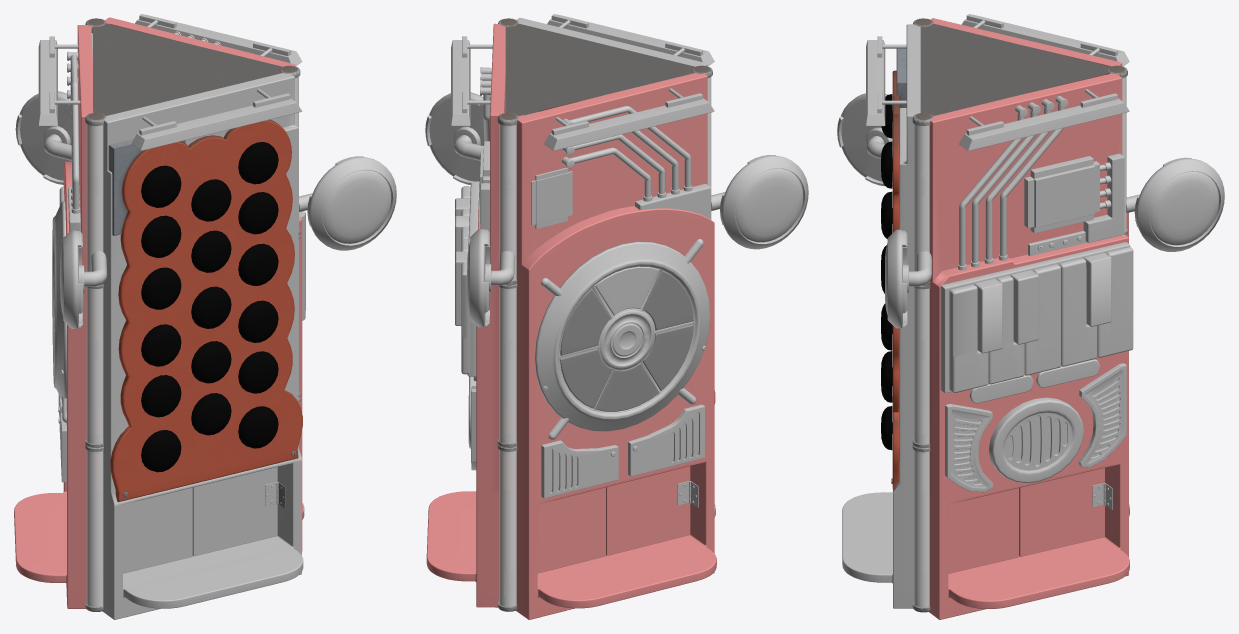
The model's file is SM_PuzzlePillar_Mix_Phase1.fbx.
3 views of the same model, side by side, from view 1: azimuth 30°, elevation 25°; view 2: azimuth 150°, elevation 25°; view 3: azimuth 270°, elevation 25° (orthographic).
Parts seen in each view (by area): view 1: SM_PuzzlePillar_RedLightBase, SM_PuzzlePillar_Base, SM_PuzzlePillar_YellowReflexBase, SM_PuzzlePillarLights, SM_PuzzlePillar_Handpanel_01.001, SM_PuzzlePillarPieces_Door_R.001, SM_PuzzlePillarPieces_Door_L.001, SM_PuzzlePillar_Handpanel_01.002, SM_PuzzlePillar_Handpanel_01, SM_PuzzlePillar_BluePianoBase, SM_PuzzlePillarPieces_light.013, SM_PuzzlePillarPieces_light.007 (+15 smaller); view 2: SM_PuzzlePillar_YellowReflexBase, SM_PuzzlePillar_Base, SM_PuzzlePillar_BluePianoBase, SM_PuzzlePillarLights, SM_PuzzlePillar_Handpanel_01, SM_PuzzlePillarPieces_Door_R, SM_PuzzlePillarPieces_Door_L.002, SM_PuzzlePillar_Handpanel_01.001, SM_PuzzlePillar_Handpanel_01.002, SM_PuzzlePillarPieces_button.003, SM_PuzzlePillarPieces_button.006, SM_PuzzlePillarPieces_button.007 (+6 smaller); view 3: SM_PuzzlePillar_BluePianoBase, SM_PuzzlePillar_Base, SM_PuzzlePillar_RedLightBase, SM_PuzzlePillarLights, SM_PuzzlePillar_Handpanel_01.002, SM_PuzzlePillarPieces_Door_R.002, SM_PuzzlePillarPieces_Door_L, SM_PuzzlePillarPieces_key1, SM_PuzzlePillarPieces_key4, SM_PuzzlePillarPieces_key5, SM_PuzzlePillarPieces_key3, SM_PuzzlePillar_Handpanel_01 (+6 smaller).
Boxes of the visible parts, left/top/right/bottom form: SM_PuzzlePillar_RedLightBase: left=102, top=73, right=303, bottom=619; SM_PuzzlePillar_Base: left=85, top=18, right=300, bottom=611; SM_PuzzlePillar_YellowReflexBase: left=14, top=25, right=93, bottom=608; SM_PuzzlePillarLights: left=38, top=14, right=302, bottom=150; SM_PuzzlePillar_Handpanel_01.001: left=299, top=156, right=396, bottom=250; SM_PuzzlePillarPieces_Door_R.001: left=192, top=467, right=278, bottom=556; SM_PuzzlePillarPieces_Door_L.001: left=123, top=487, right=192, bottom=573; SM_PuzzlePillar_Handpanel_01.002: left=15, top=91, right=71, bottom=184; SM_PuzzlePillar_Handpanel_01: left=60, top=230, right=107, bottom=328; SM_PuzzlePillar_BluePianoBase: left=105, top=17, right=305, bottom=551; SM_PuzzlePillarPieces_light.013: left=191, top=179, right=231, bottom=221; SM_PuzzlePillarPieces_light.007: left=238, top=406, right=278, bottom=448; SM_PuzzlePillar_YellowReflexBase: left=516, top=73, right=716, bottom=619; SM_PuzzlePillar_Base: left=497, top=18, right=712, bottom=611; SM_PuzzlePillar_BluePianoBase: left=426, top=23, right=505, bottom=607; SM_PuzzlePillarLights: left=451, top=14, right=714, bottom=150; SM_PuzzlePillar_Handpanel_01: left=711, top=155, right=808, bottom=249; SM_PuzzlePillarPieces_Door_R: left=606, top=466, right=690, bottom=555; SM_PuzzlePillarPieces_Door_L.002: left=537, top=487, right=605, bottom=573; SM_PuzzlePillar_Handpanel_01.001: left=425, top=92, right=484, bottom=184; SM_PuzzlePillar_Handpanel_01.002: left=467, top=229, right=515, bottom=327; SM_PuzzlePillarPieces_button.003: left=642, top=324, right=693, bottom=390; SM_PuzzlePillarPieces_button.006: left=560, top=288, right=610, bottom=355; SM_PuzzlePillarPieces_button.007: left=560, top=348, right=611, bottom=408; SM_PuzzlePillar_BluePianoBase: left=929, top=73, right=1130, bottom=619; SM_PuzzlePillar_Base: left=912, top=18, right=1127, bottom=612; SM_PuzzlePillar_RedLightBase: left=842, top=24, right=920, bottom=608; SM_PuzzlePillarLights: left=866, top=14, right=1129, bottom=150; SM_PuzzlePillar_Handpanel_01.002: left=1126, top=157, right=1224, bottom=251; SM_PuzzlePillarPieces_Door_R.002: left=1019, top=468, right=1105, bottom=556; SM_PuzzlePillarPieces_Door_L: left=948, top=488, right=1018, bottom=573; SM_PuzzlePillarPieces_key1: left=949, top=284, right=988, bottom=392; SM_PuzzlePillarPieces_key4: left=1059, top=258, right=1097, bottom=366; SM_PuzzlePillarPieces_key5: left=1097, top=247, right=1133, bottom=357; SM_PuzzlePillarPieces_key3: left=1024, top=264, right=1060, bottom=375; SM_PuzzlePillar_Handpanel_01: left=837, top=93, right=892, bottom=186.
Bounding box in the file's own units: 377 × 501 × 357.
